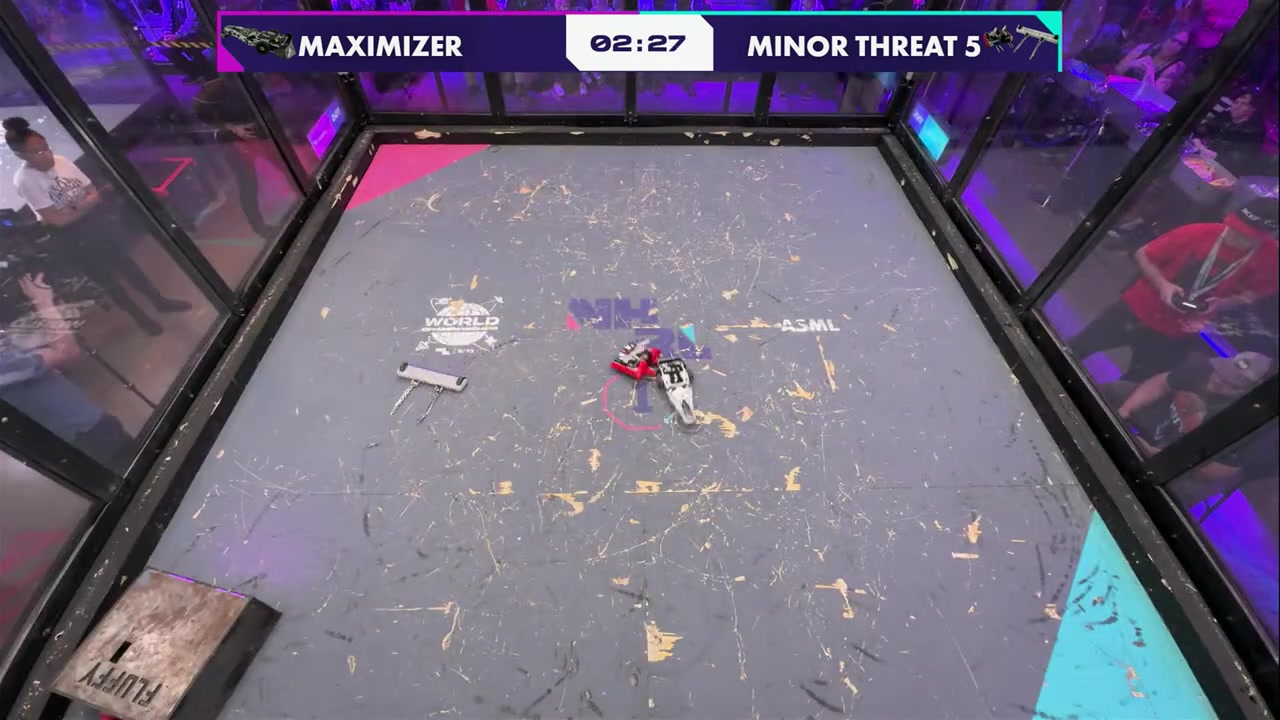combatbot: (658, 357, 697, 424), (609, 342, 657, 380)
housebot: (50, 566, 282, 718)
minibot: (396, 362, 471, 390)
